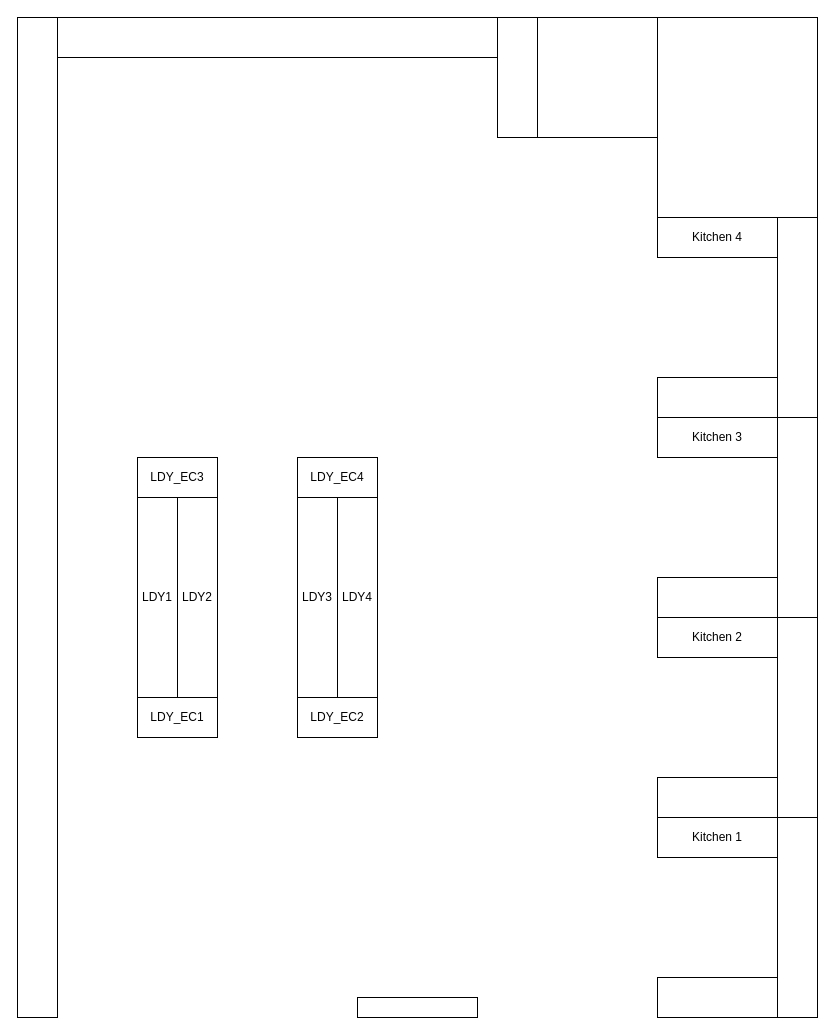
Image size: 835x1035. Some labels were removed from this diagram. The shapes that lost their labels are listed below. From the top down, each one's centre as x and y in pixels, then its label:
pixel 277 37: Televisions
pixel 517 77: TVAC
pixel 597 77: Restrooms
pixel 417 1007: Entrance
